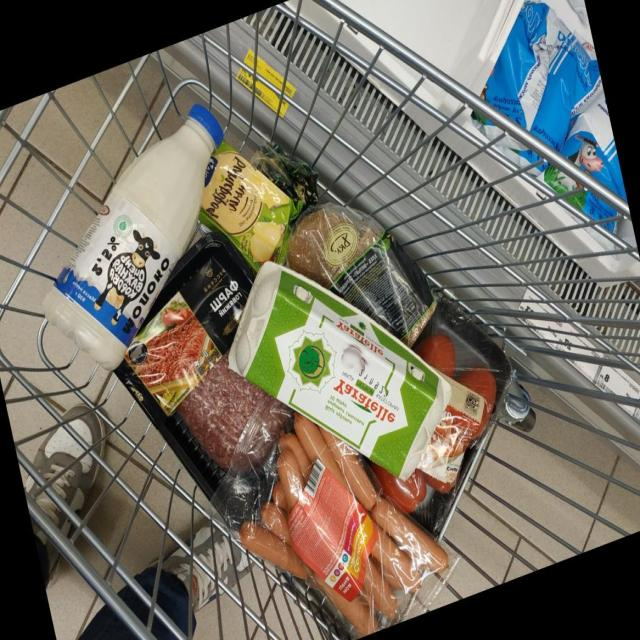cheese: (140, 117, 436, 329)
egg: (201, 241, 640, 640)
milk: (62, 173, 200, 502)
tomato: (215, 251, 637, 640), (229, 244, 640, 640), (250, 189, 640, 555), (231, 188, 640, 526)
